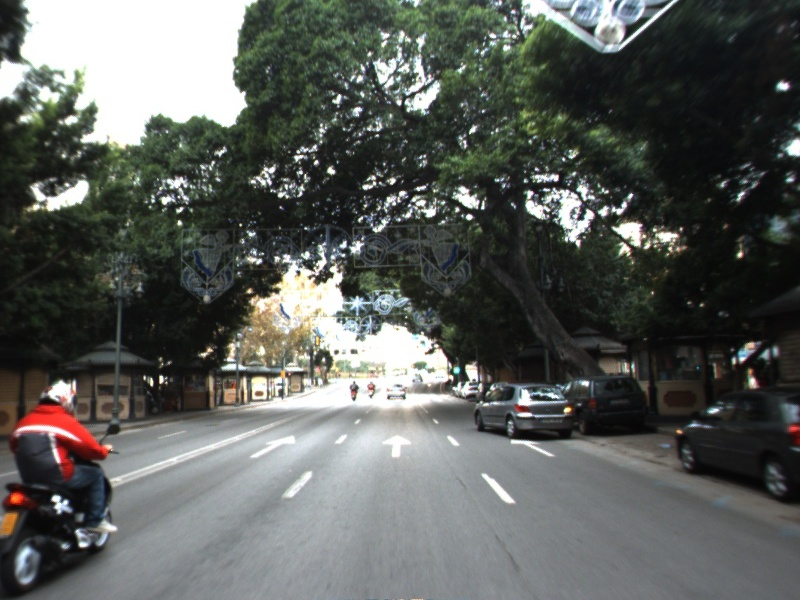STRAIGHT: (248, 433, 298, 460), (508, 436, 558, 459), (380, 433, 414, 459)
